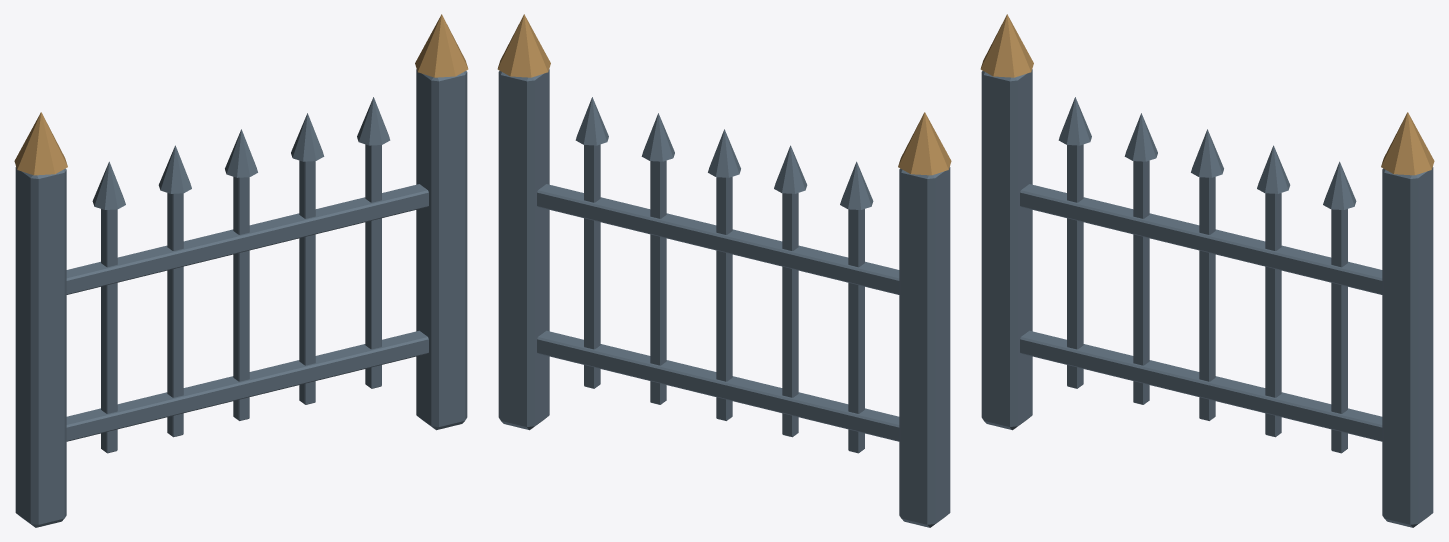
File: L01R_Fence.fbx
3 renders of one model, left to right at view 1: azimuth 30°, elevation 25°; view 2: azimuth 150°, elevation 25°; view 3: azimuth 330°, elevation 25°, orthographic.
Parts seen in each view (by area): view 1: L01R_Fence; view 2: L01R_Fence; view 3: L01R_Fence.
Part boxes in pixels (box(x1,y1,x2,y2)): L01R_Fence: box(14, 14, 468, 527); L01R_Fence: box(497, 14, 951, 527); L01R_Fence: box(980, 14, 1434, 527).
Size of the model in its own units: 224 by 195 by 24.
